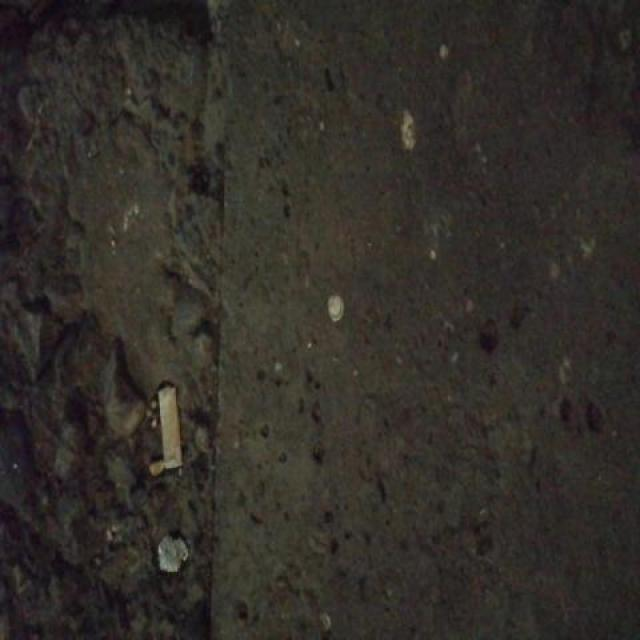non-organic waste: (154, 380, 186, 476)
